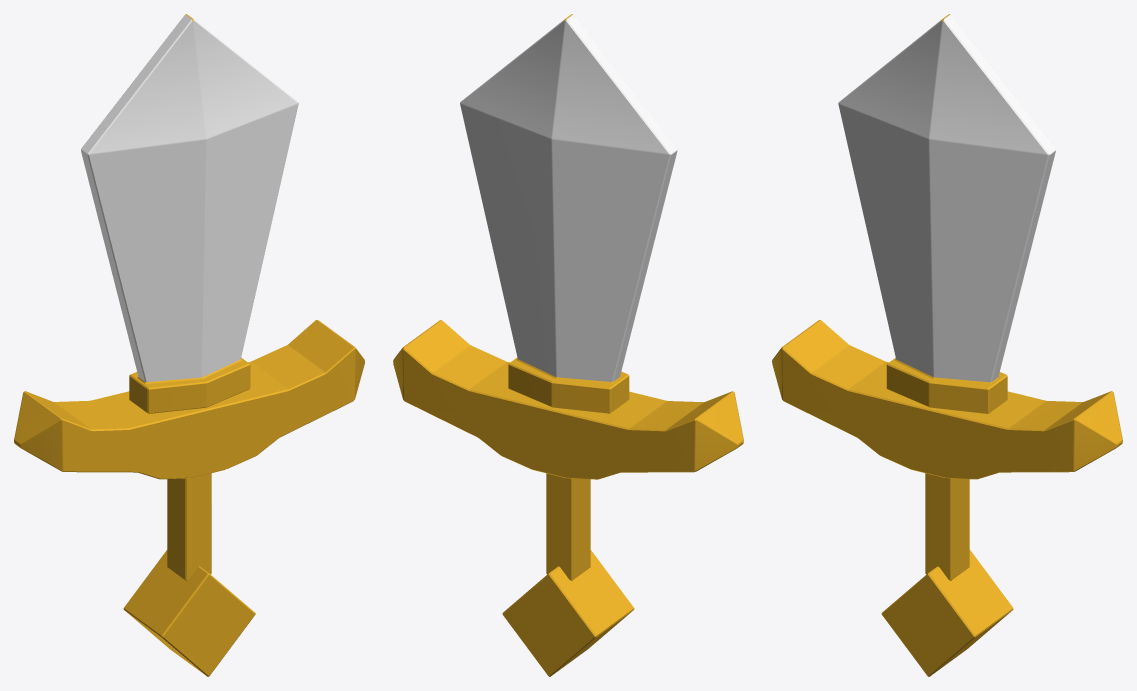
File: SwordFull.fbx
3 views of the same model, side by side, from view 1: azimuth 30°, elevation 25°; view 2: azimuth 150°, elevation 25°; view 3: azimuth 330°, elevation 25° (orthographic).
Parts seen in each view (by area): view 1: pCube7.001, pCube7; view 2: pCube7.001, pCube7; view 3: pCube7.001, pCube7.
Part boxes in pixels (left/top/right/bottom): pCube7.001: left=81, top=14, right=298, bottom=382; pCube7: left=14, top=14, right=364, bottom=676; pCube7.001: left=460, top=14, right=677, bottom=381; pCube7: left=393, top=14, right=743, bottom=676; pCube7.001: left=838, top=14, right=1055, bottom=382; pCube7: left=772, top=14, right=1122, bottom=676.
Bounding box in the file's own units: 204 × 364 × 40.04.
